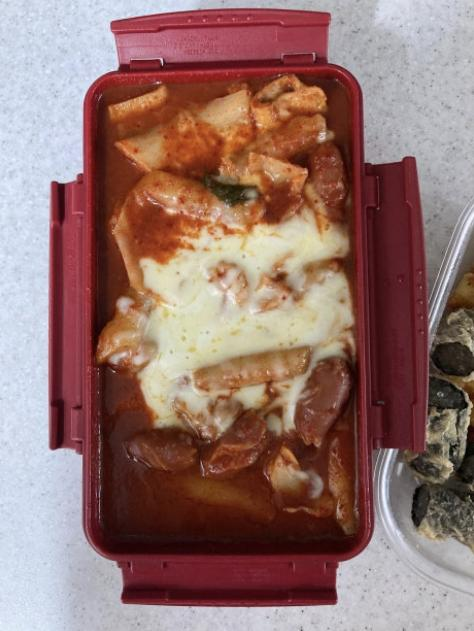Lunch Box: (49, 8, 428, 605)
